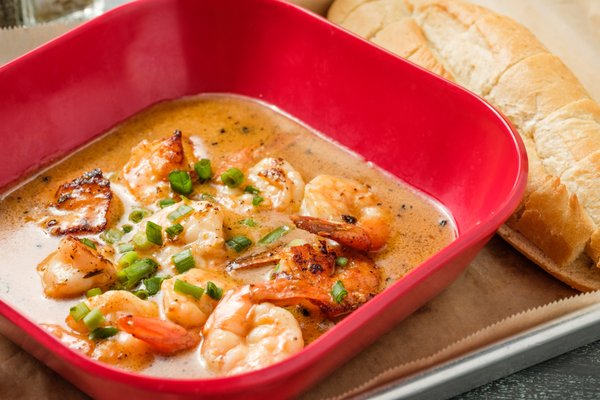sushi: (11, 0, 530, 392), (2, 91, 472, 394)
